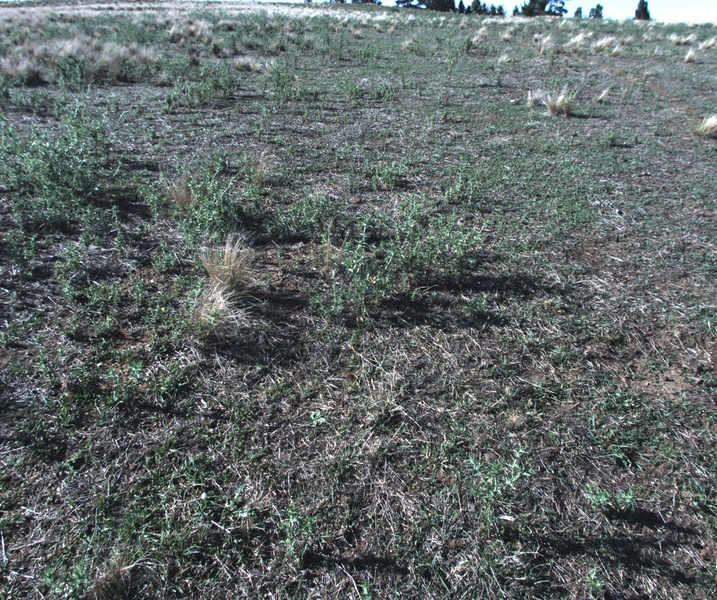st: (194, 285, 255, 342), (198, 241, 254, 288), (535, 91, 570, 123), (229, 52, 271, 75), (594, 85, 621, 108), (693, 113, 717, 135), (169, 20, 187, 44), (666, 34, 692, 48), (685, 47, 700, 69), (535, 36, 555, 52), (604, 41, 625, 56), (527, 87, 539, 113), (594, 36, 610, 53), (496, 52, 516, 64), (499, 30, 514, 43)
